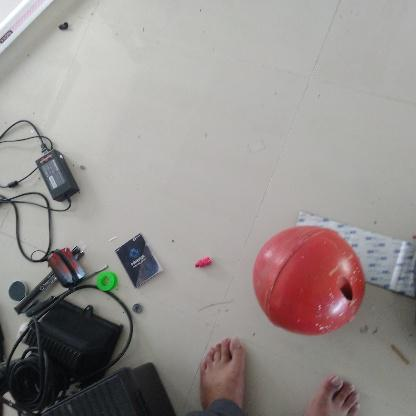red_buoy: (252, 223, 367, 340)
